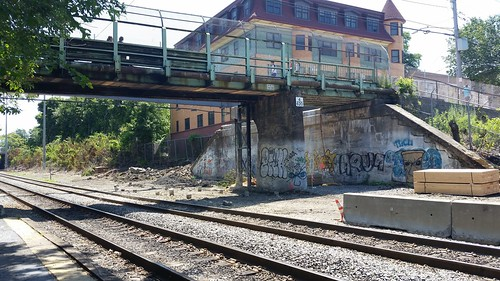bridge: (4, 17, 352, 189)
building: (175, 11, 400, 130)
graffiti: (312, 147, 439, 191), (246, 139, 304, 195)
train track: (6, 174, 500, 281)
vegetation: (19, 103, 166, 165)
